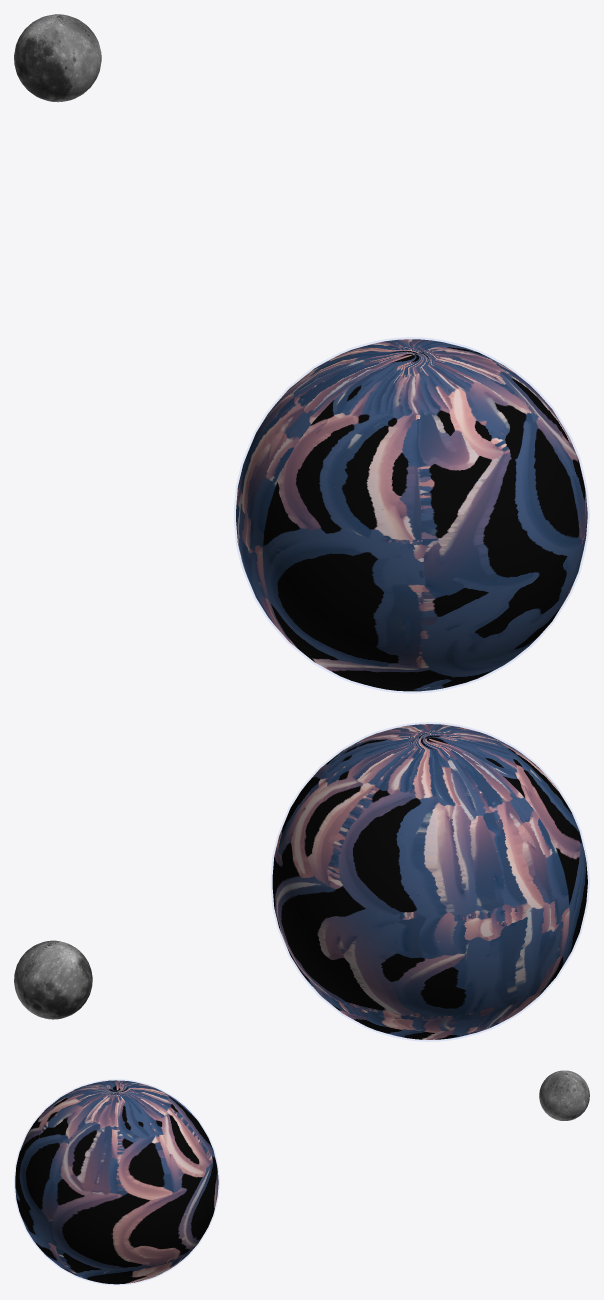
3 views of the same model, one above another, from view 1: azimuth 30°, elevation 25°; view 2: azimuth 150°, elevation 25°; view 3: azimuth 270°, elevation 25° (orthographic). The views are drawn at different scales.
Parts seen in each view (by area): view 1: clouds, moon; view 2: clouds, moon; view 3: clouds, moon.
Boxes of the visible parts, bbox=[...] form: clouds: bbox=[236, 339, 587, 691]; moon: bbox=[14, 14, 101, 102]; clouds: bbox=[272, 724, 587, 1039]; moon: bbox=[14, 940, 92, 1019]; clouds: bbox=[15, 1080, 218, 1284]; moon: bbox=[539, 1070, 589, 1120].
Size of the model in its own units: 2.03 by 2.31 by 5.68.
